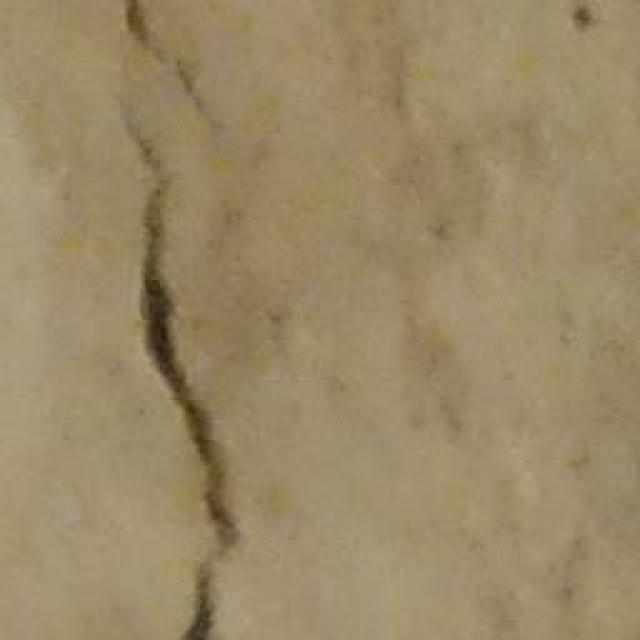Longitudinal: (105, 0, 243, 640)
